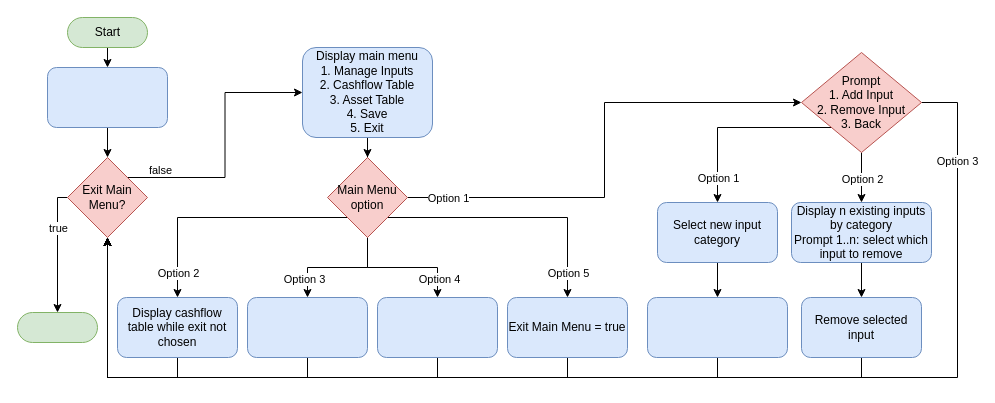
Image size: 995x403. Some labels were removed from this diagram. Here are the shapes that lost their labels. From the top down, the box of each, then its label:
(46, 66, 168, 128): Exit Main Menu = false
(16, 312, 98, 342): End
(246, 296, 368, 358): Display asset table while exit not chosen
(376, 296, 498, 358): Save all current inputs to .json file
(646, 296, 788, 358): Sequence of prompts to enter all required details for the selected input
